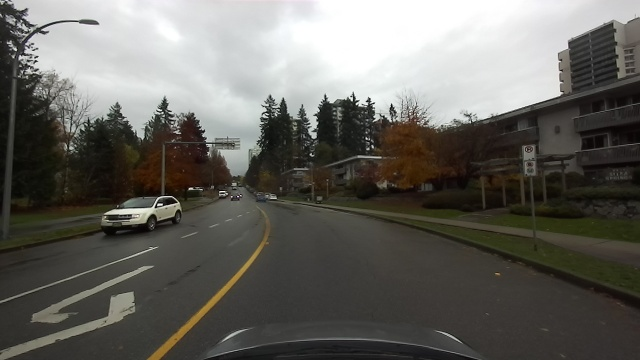car: (92, 193, 182, 236), (229, 192, 241, 202), (268, 193, 278, 202), (255, 194, 266, 202), (217, 190, 227, 198), (230, 182, 239, 190)
